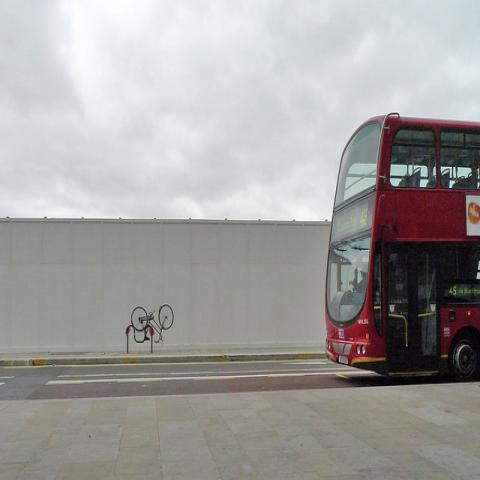bus: (325, 111, 479, 380)
